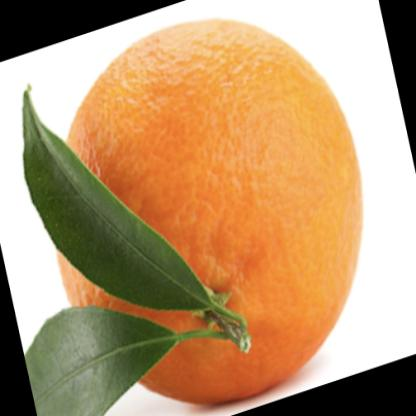fresh: (57, 18, 363, 402)
